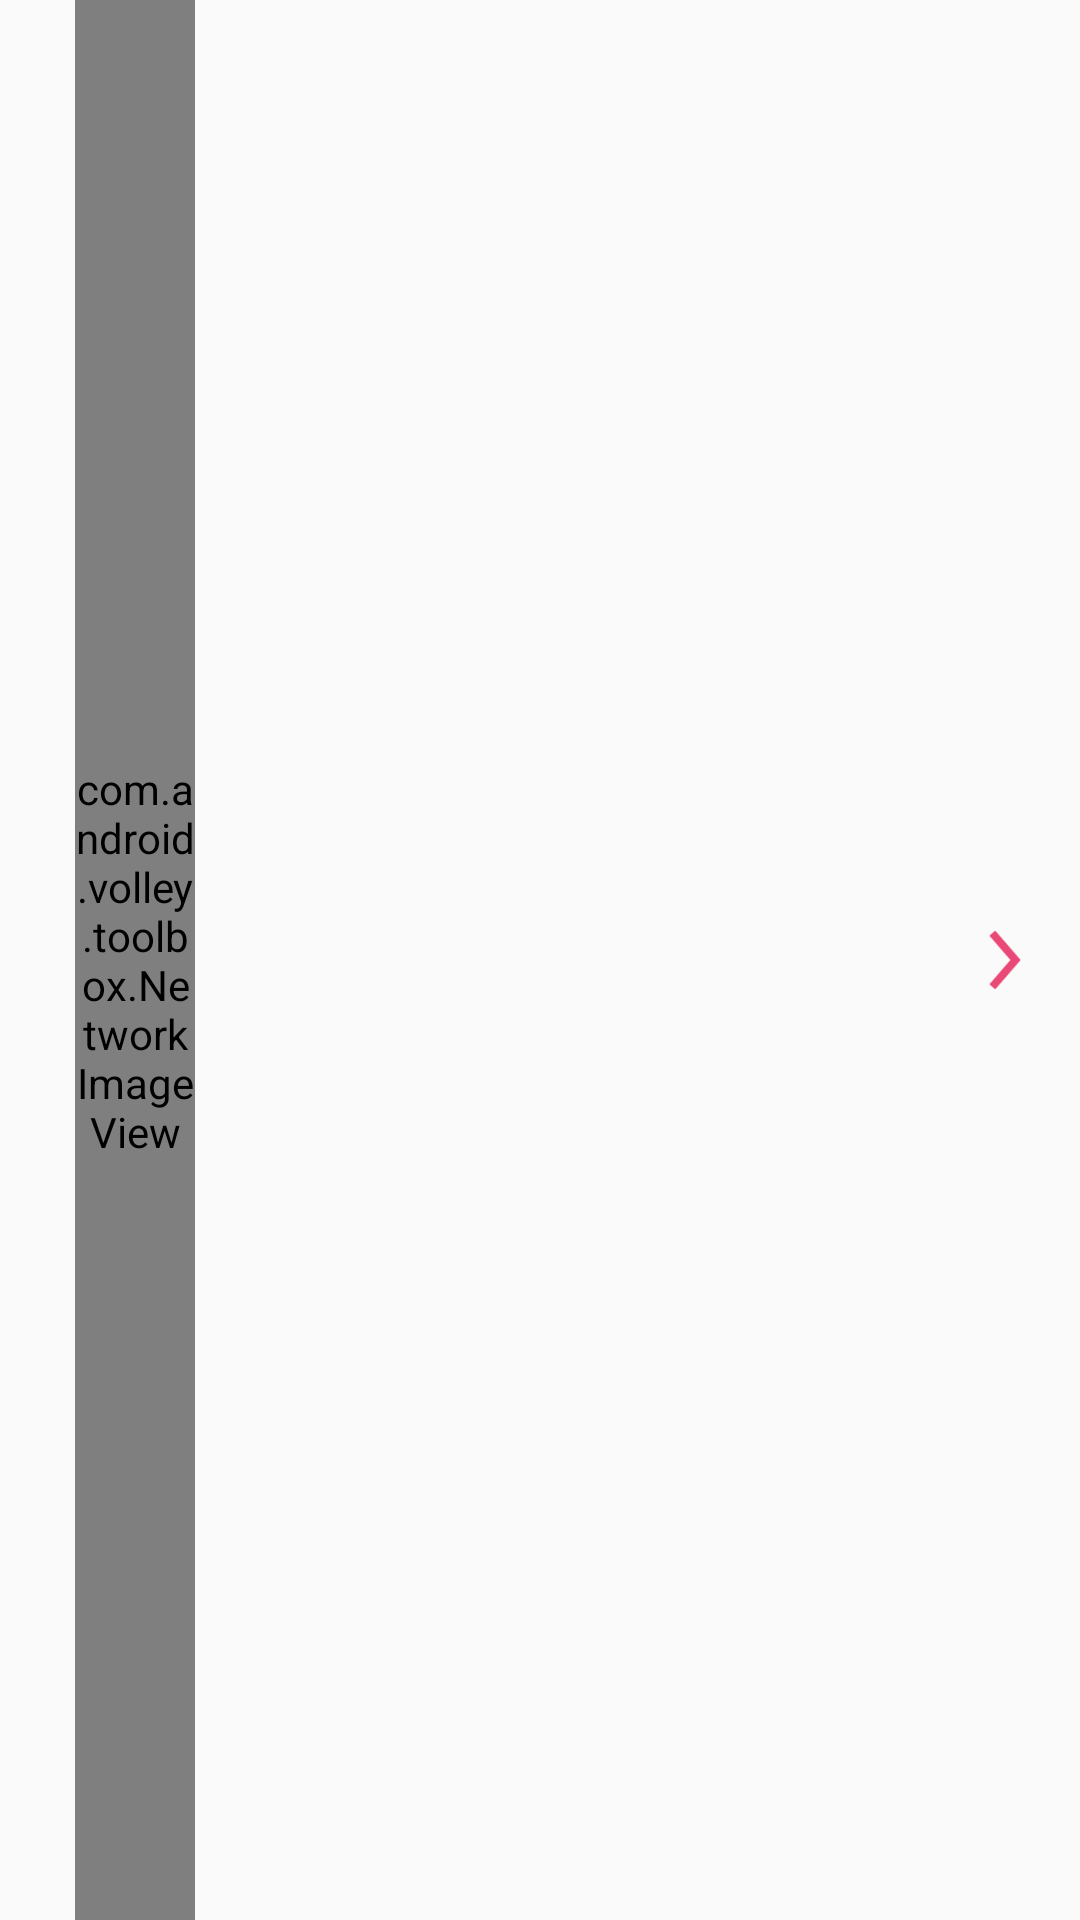

Where icons sit on this 1080x1920 app screen, as (x1, y1, x2, y2):
select: (989, 931, 1021, 989)
